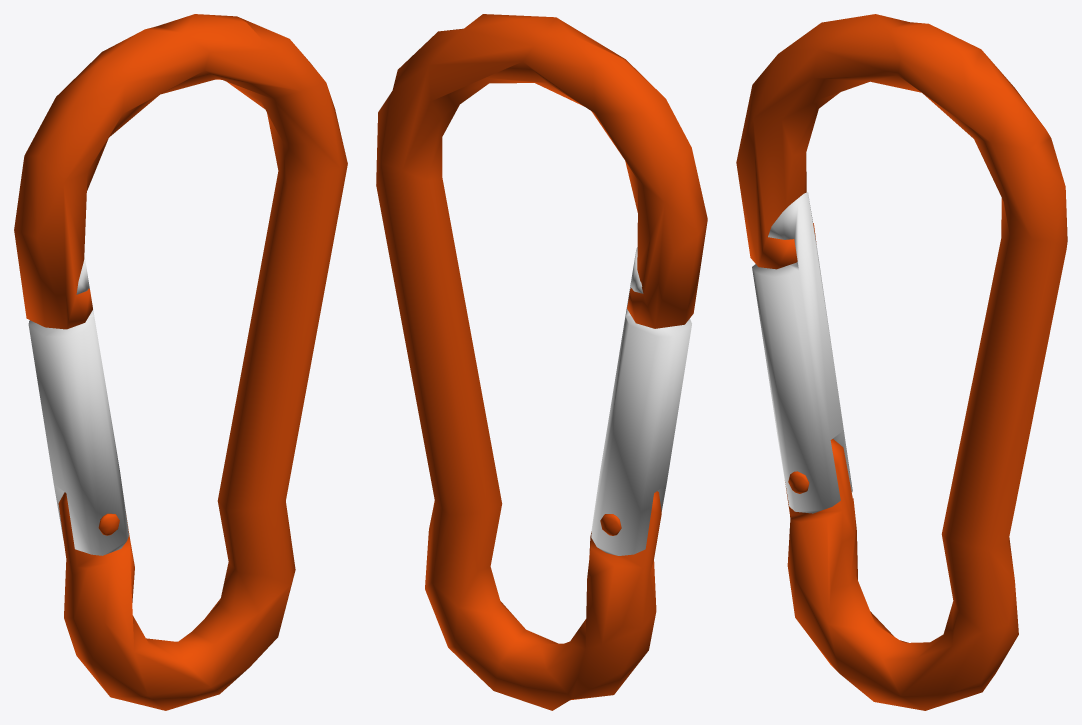
The model's file is carabiner.glb.
3 renders of one model, left to right at view 1: azimuth 30°, elevation 25°; view 2: azimuth 150°, elevation 25°; view 3: azimuth 330°, elevation 25°, orthographic.
Parts seen in each view (by area): view 1: carabiner_clip_low, carabiner_gate_low; view 2: carabiner_clip_low, carabiner_gate_low; view 3: carabiner_clip_low, carabiner_gate_low.
Boxes of the visible parts, <box> form: carabiner_clip_low: <box>14,14,347,710</box>; carabiner_gate_low: <box>28,255,128,555</box>; carabiner_clip_low: <box>376,14,707,710</box>; carabiner_gate_low: <box>591,247,691,555</box>; carabiner_clip_low: <box>736,14,1067,710</box>; carabiner_gate_low: <box>752,192,852,513</box>.
Size of the model in its own units: 0.7512 by 1.5 by 0.1574.
